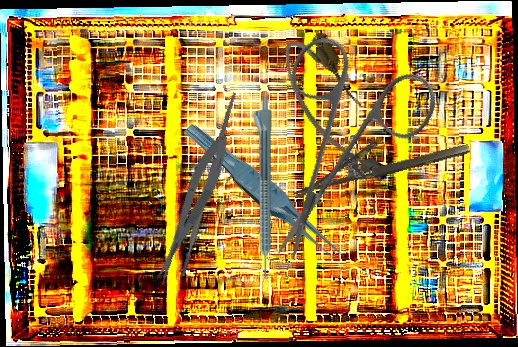Cannula: (271, 25, 400, 199)
Handpiece: (251, 97, 272, 279)
Iris Scissors: (214, 8, 471, 263)
Micro Scissor: (143, 130, 238, 288)
Needle Holder: (286, 120, 471, 199)
Scalpel Handle: (177, 91, 239, 277)
Tissue Forceps: (182, 111, 349, 278)
